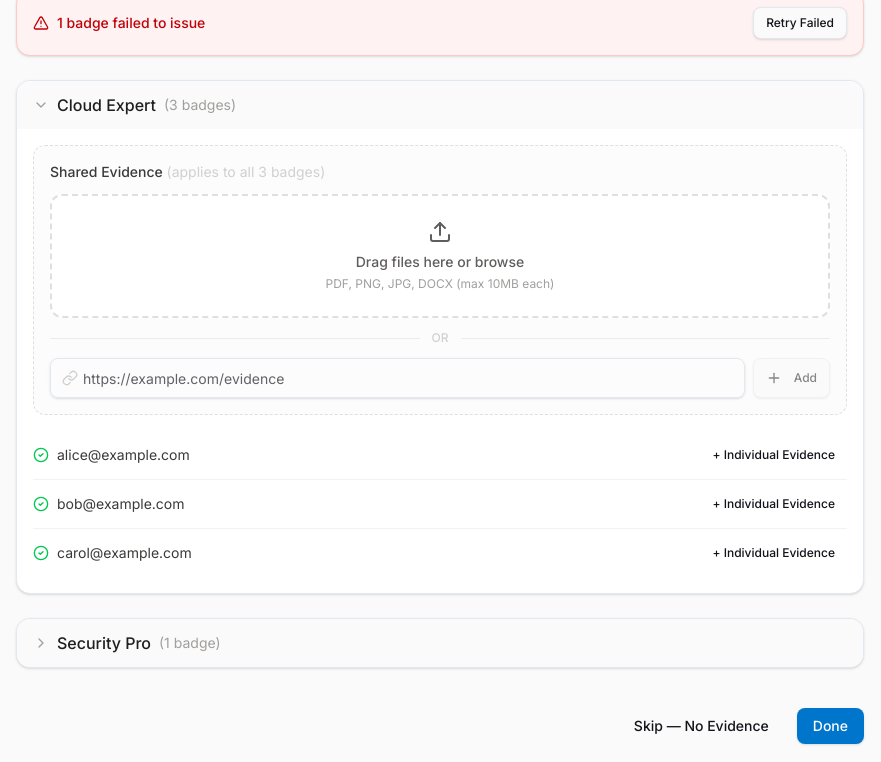
BulkResultPage › shows failed badges in group
The image size is (881, 762).
(page scrolled)
# Expand Security Pro group
Click the text "Security Pro". click: (104, 643)
box: [57,631,151,655]
(page scrolled)
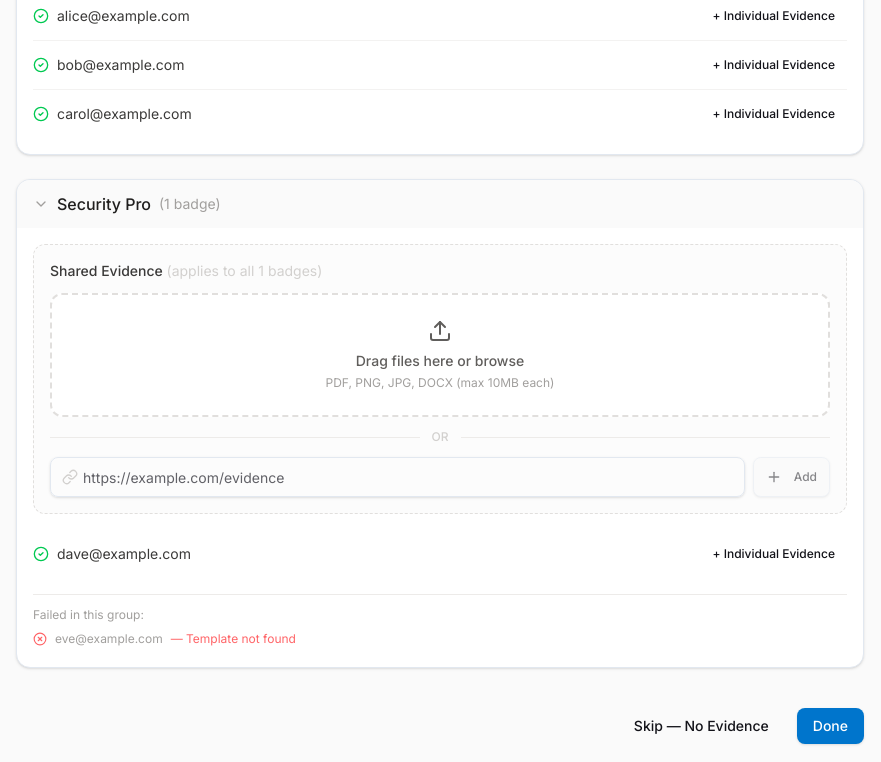
expect the text "eve@example.com" is shown: met, box [55,631,163,647]
expect the text "— Template not found" is shown: met, box [171,631,296,647]
